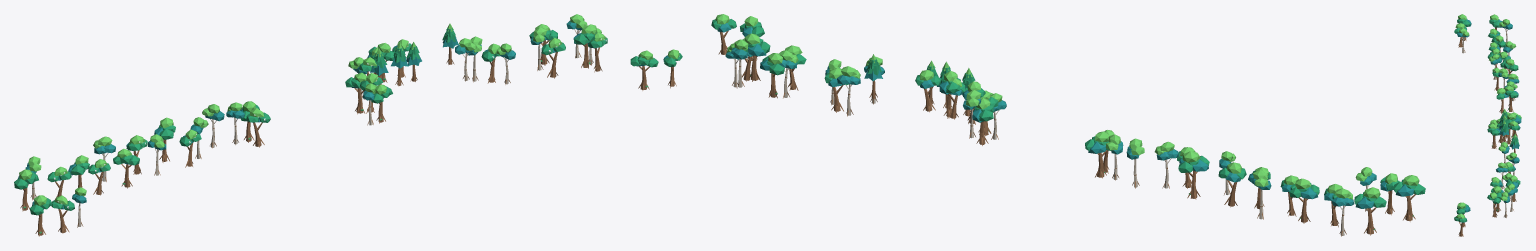
Rendered from L01_Trees.fbx.
The picture shows the model from 3 angles, left to right: view 1: azimuth 30°, elevation 25°; view 2: azimuth 150°, elevation 25°; view 3: azimuth 270°, elevation 25°; orthographic projection. The views are drawn at different scales.
Parts seen in each view (by area): view 1: TR_Forest_Trees; view 2: TR_Forest_Trees; view 3: TR_Forest_Trees.
Part boxes in pixels (x1,y1,x2,y2): TR_Forest_Trees: (14,14,682,236); TR_Forest_Trees: (711,14,1425,236); TR_Forest_Trees: (1454,14,1521,236).
Size of the model in its own units: 117 by 13.07 by 16.66.
